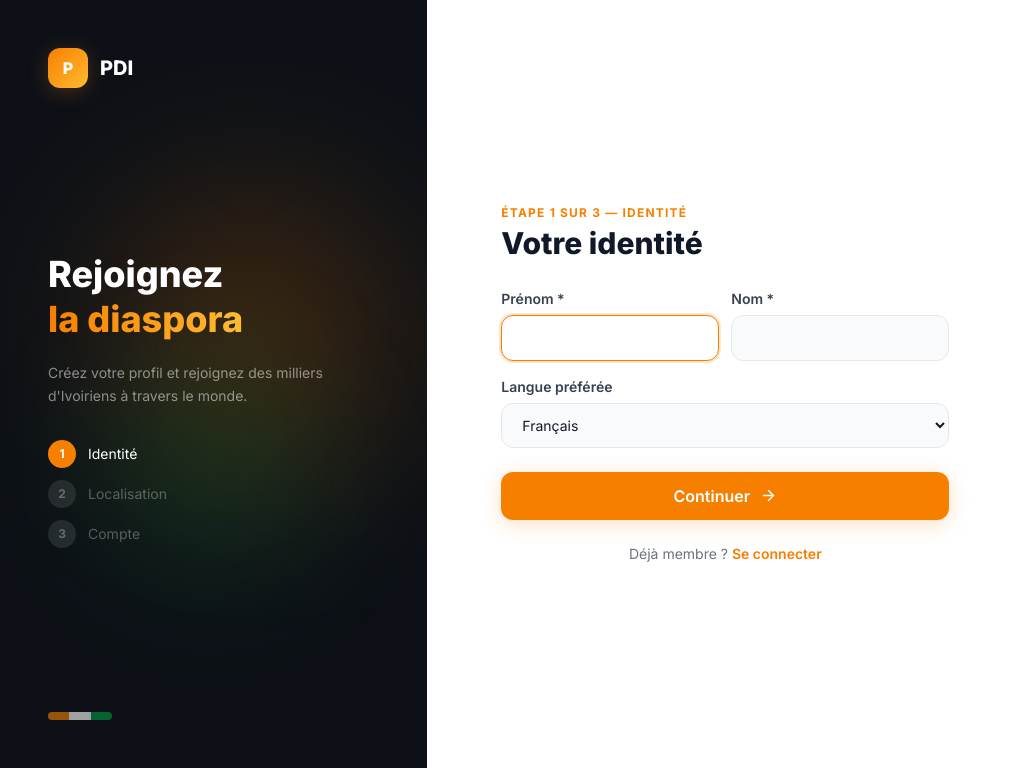
Test case: RegisterPage › advances to step 3 from step 2
In the field labelled "Prénom *": [610, 338] box [501, 314, 719, 360], type "Kouamé"
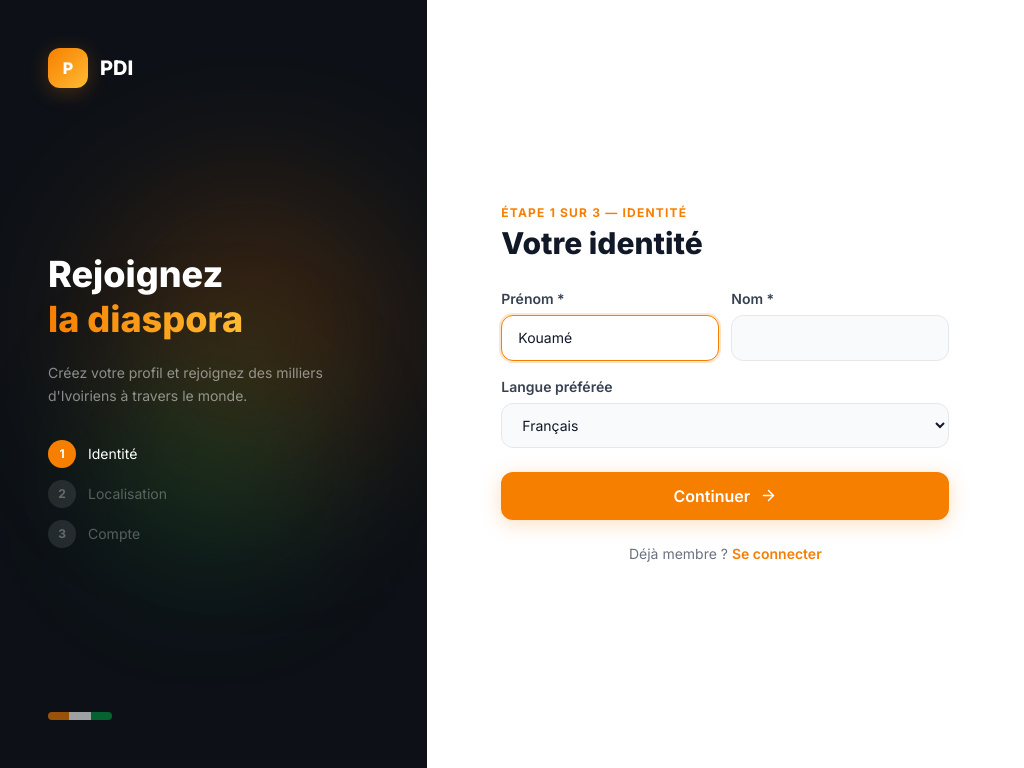
In the field labelled "Nom *": [840, 338] box [731, 314, 949, 360], type "Diallo"
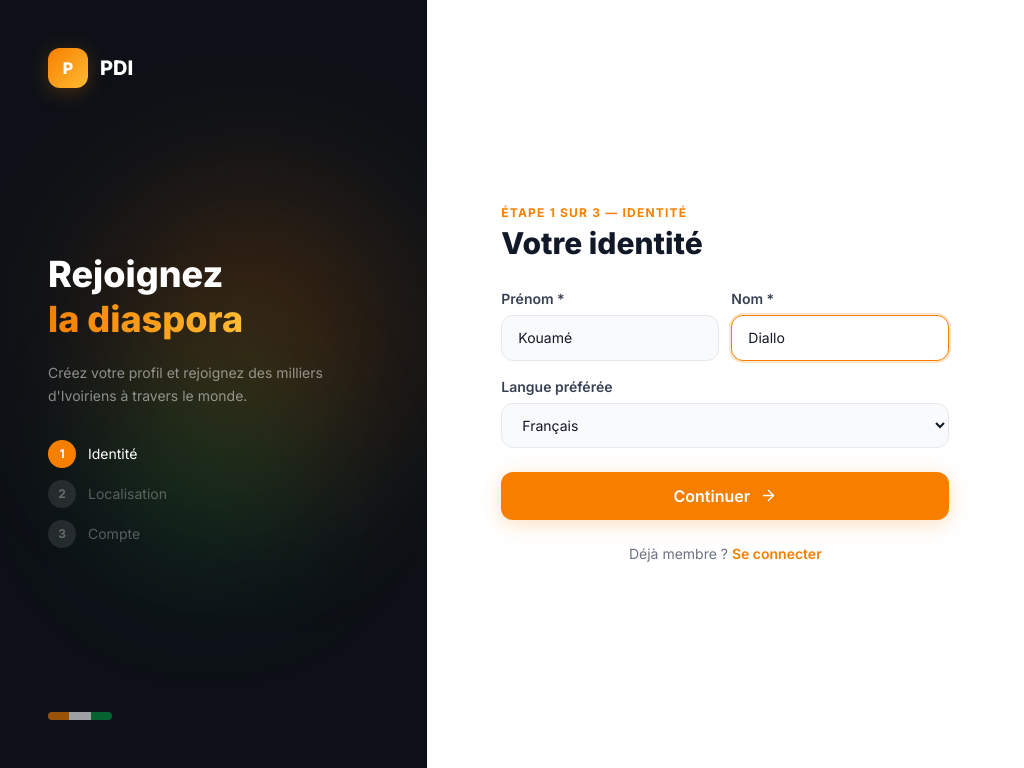
Click the button "Continuer": [725, 496] box [501, 472, 949, 520]
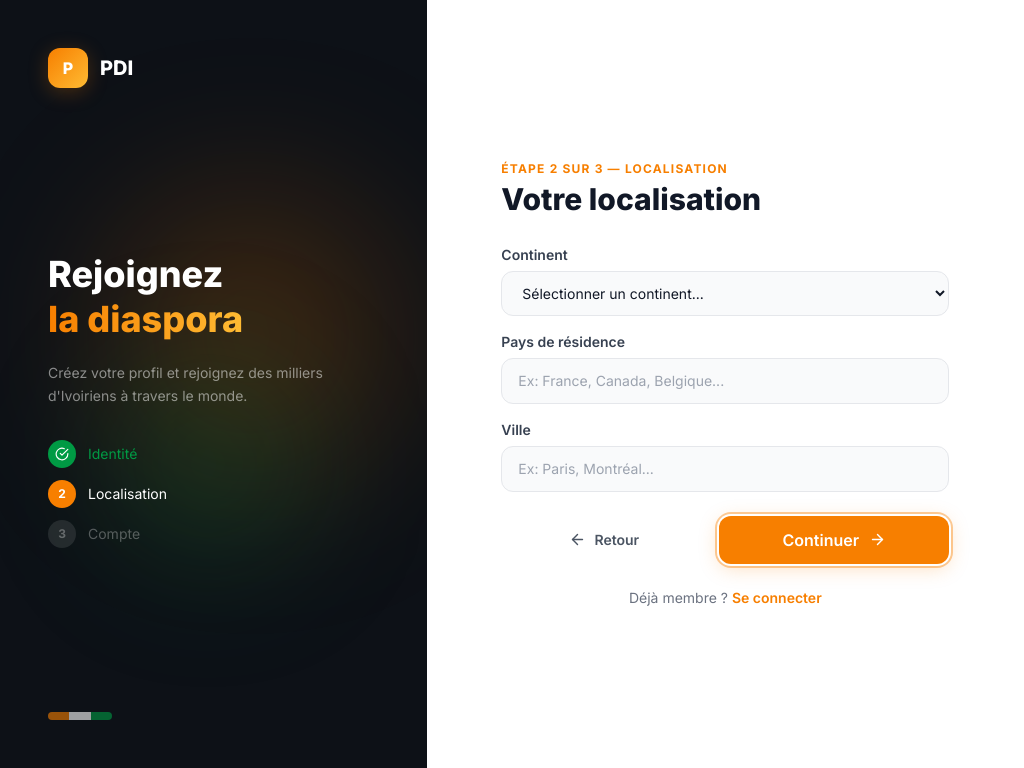
Expected: the heading "Votre localisation" is shown, [501, 180, 761, 216]
Click the button "Continuer": [834, 540] box [719, 516, 949, 564]
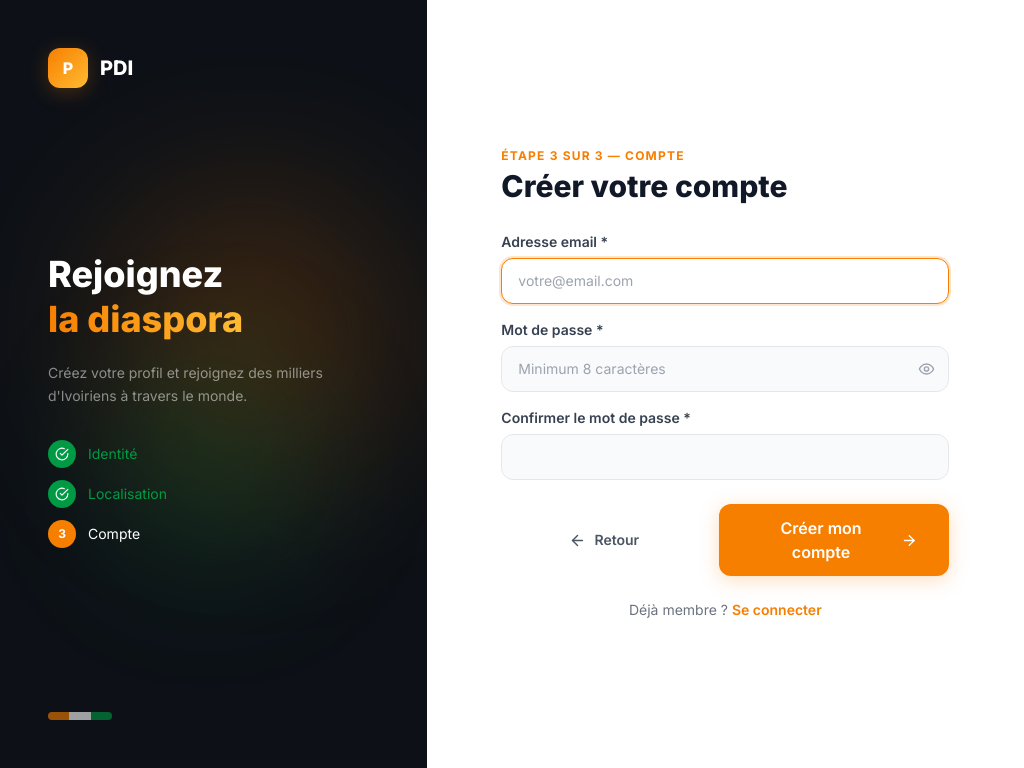
Expected: the heading "Créer votre compte" is shown, [501, 168, 788, 204]
